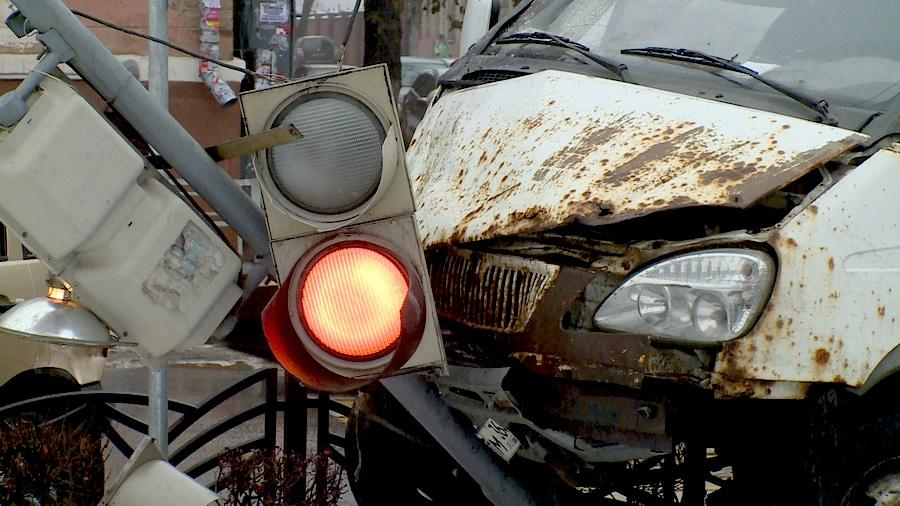off traffic light: (239, 66, 444, 392)
